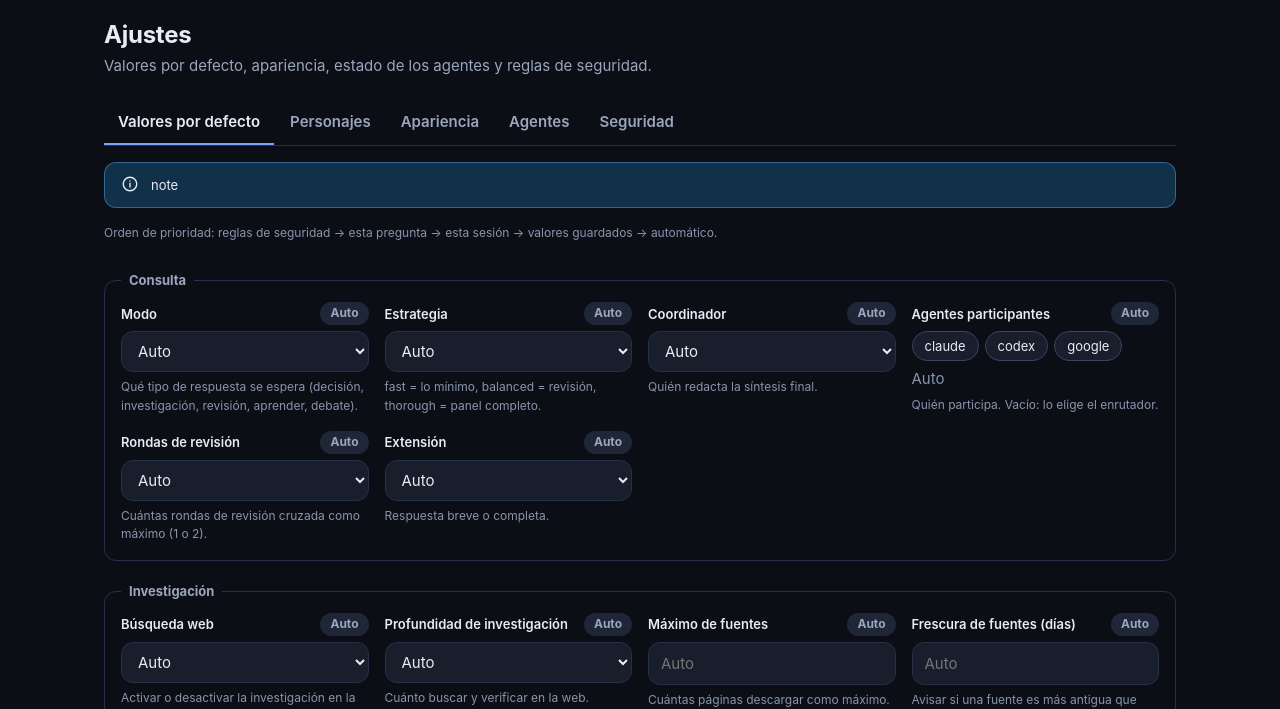
Scenario: settings, themes and language › saves the defaults the user chose and nothing else
Check: the text "Consulta" is shown, box [129, 272, 186, 288]
Select "fast" in the dropdown labelled "Estrategia" at (508, 352), box [384, 331, 632, 372]
(page scrolled)
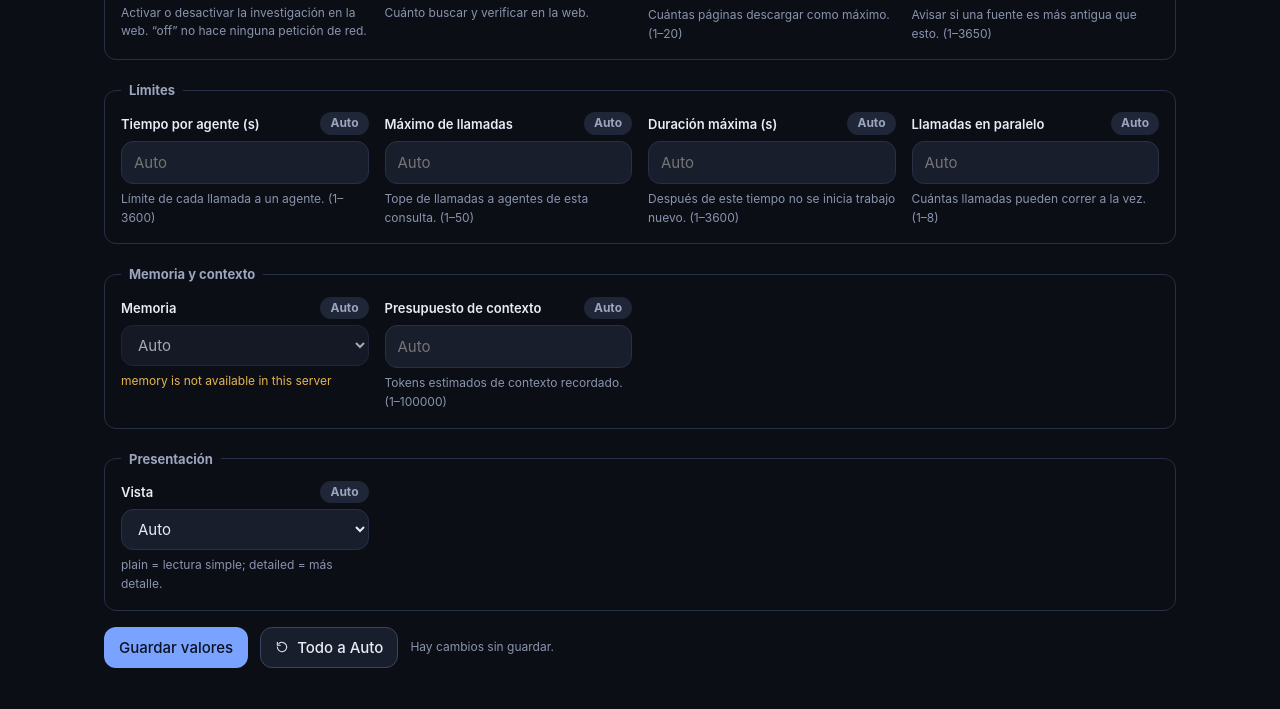
Click the button "Guardar valores".
click(176, 647)  # box [104, 626, 248, 668]
(page scrolled)
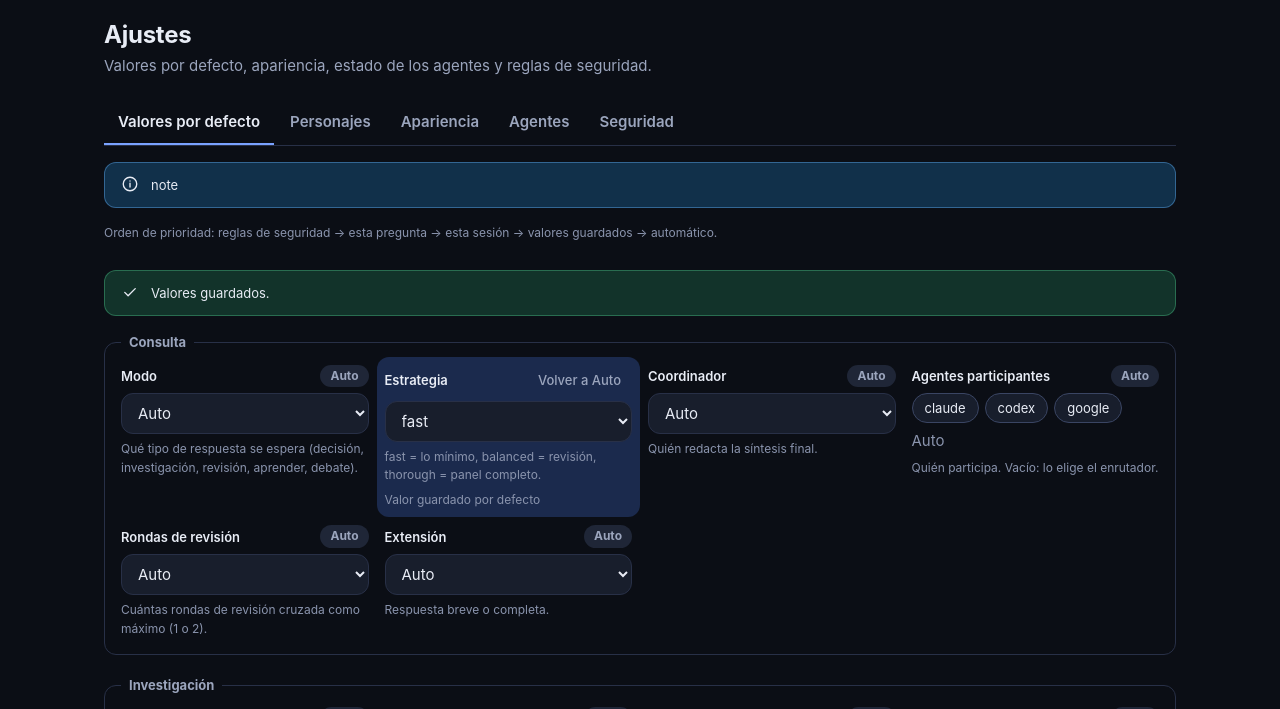
Check: the text "Valores guardados." is shown, box [151, 285, 270, 301]
